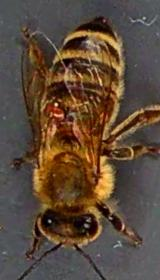varroa_mite: (44, 98, 68, 122)
